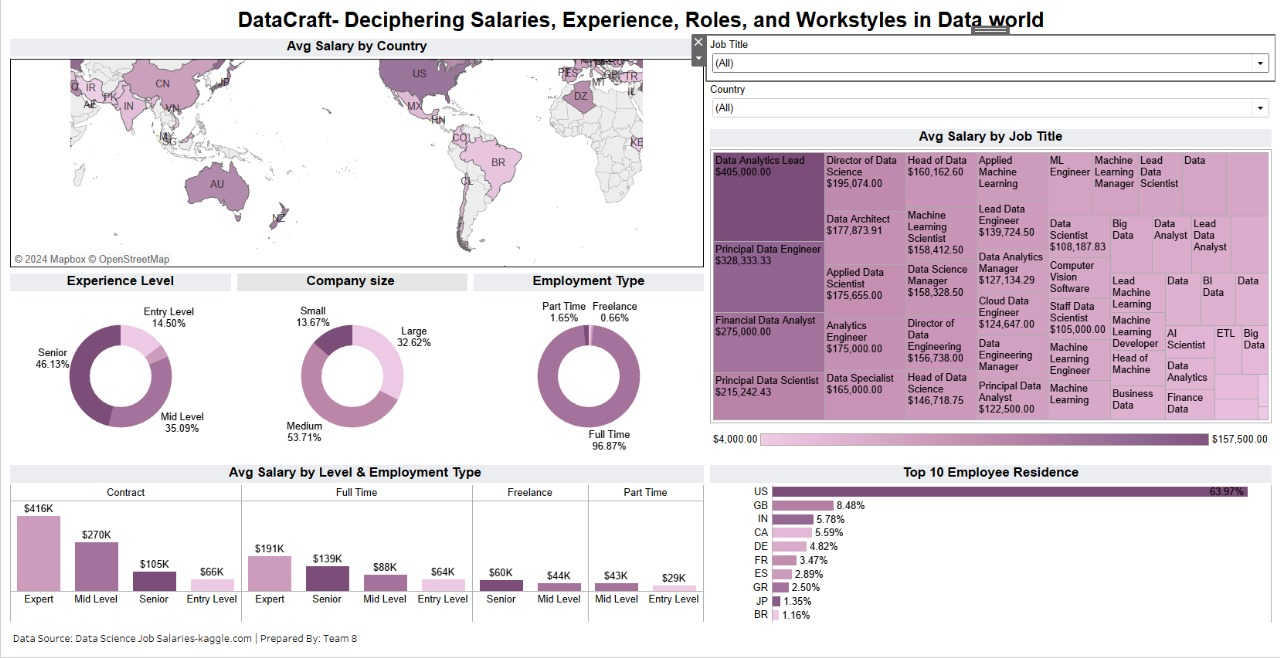

The dashboard page shown, as its layout file describes it:
{"tool":"tableau","page":{"name":"Data Dashboard","canvas":[1000,1000],"units":"permille","ordinal":0},"visuals":[{"type":"title","box":[5,9.9,990,54.6]},{"type":"worksheet","title":"Avg sal by country","mark":"Automatic","box":[5,64.5,546.9,353]},{"type":"filter","title":"Avg sal by job title and exp level","param":"[federated.04ey50z0f6us4i1cflpjh17nrij5].[none:job_title:nk]","box":[551.8,64.5,443.2,67.6]},{"type":"filter","title":"Avg sal by job title and exp level","param":"[federated.04ey50z0f6us4i1cflpjh17nrij5].[none:company_location:nk]","box":[551.8,132.2,443.2,67.9]},{"type":"worksheet","title":"Avg sal by job title and exp level","mark":"Automatic","box":[551.8,200.1,443.2,453.8]},{"type":"worksheet","title":"Experience Level","mark":"Pie","rows":["Calculation_655555278958190593","Calculation_655555278958190593"],"box":[5,417.5,177.2,288.4]},{"type":"worksheet","title":"Total companies by size and location","mark":"Pie","rows":["Calculation_655555278958190593","Calculation_655555278958190593"],"box":[182.2,417.5,184.7,288.4]},{"type":"worksheet","title":"Employment Type","mark":"Pie","rows":["Calculation_655555278958190593","Calculation_655555278958190593"],"box":[367,417.5,184.9,288.4]},{"type":"legend","title":"Avg sal by country","param":"[federated.04ey50z0f6us4i1cflpjh17nrij5].[avg:salary_in_usd:qk]","box":[551.8,653.8,443.2,52]},{"type":"worksheet","title":"AVg sal by exp and emp type","mark":"Automatic","rows":["salary_in_usd"],"cols":["employment_type","experience_level"],"box":[5,705.9,546.9,246.5]},{"type":"worksheet","title":"Top 10 Employee Residence","mark":"Automatic","rows":["employee_residence"],"cols":["employee_residence"],"box":[551.8,705.9,443.2,246.5]},{"type":"text","box":[5,952.3,990,37.8]}]}

Visuals, with their boxes on the dashboard's canvas, which has no fixed pixel size, in thousandths of its width and height (x1, y1, x2, y2). These are canvas units, not pixel positions in the 1280x658 screenshot, which may show the page scaled, cropped or inside an application window:
title: bbox(5, 10, 995, 64)
"Avg sal by country" worksheet: bbox(5, 64, 552, 418)
"Avg sal by job title and exp level" filter: bbox(552, 64, 995, 132)
"Avg sal by job title and exp level" filter: bbox(552, 132, 995, 200)
"Avg sal by job title and exp level" worksheet: bbox(552, 200, 995, 654)
"Experience Level" worksheet (Pie marks): bbox(5, 418, 182, 706)
"Total companies by size and location" worksheet (Pie marks): bbox(182, 418, 367, 706)
"Employment Type" worksheet (Pie marks): bbox(367, 418, 552, 706)
"Avg sal by country" legend: bbox(552, 654, 995, 706)
"AVg sal by exp and emp type" worksheet: bbox(5, 706, 552, 952)
"Top 10 Employee Residence" worksheet: bbox(552, 706, 995, 952)
text: bbox(5, 952, 995, 990)
